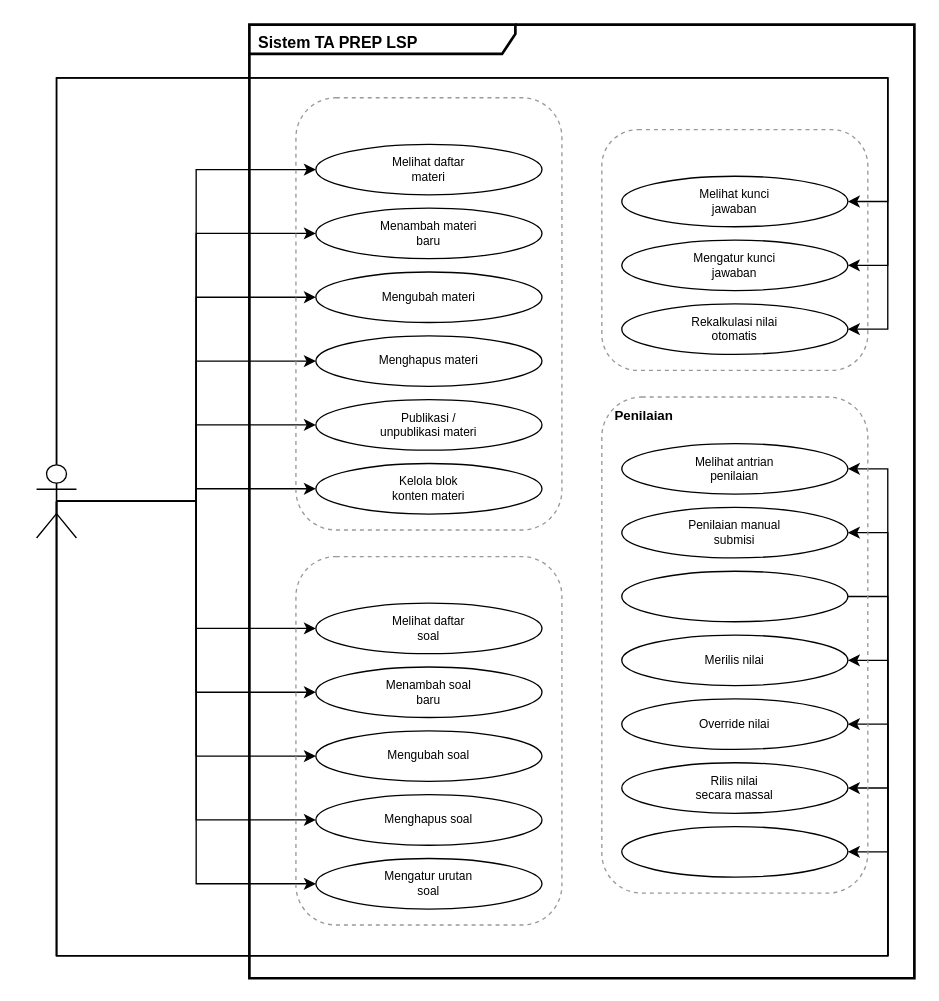
Image size: 939x1001. Some labels were removed from this diagram. Each missing label, with the box of its shape:
Feedback massal: (620, 825, 848, 877)
Instruktur: (35, 464, 76, 538)
Manajemen Bank Soal: (295, 555, 562, 925)
Manajemen Kunci Jawaban: (600, 128, 868, 370)
Manajemen Materi: (295, 96, 562, 530)
Menyimpan draft nilai: (620, 570, 848, 622)
